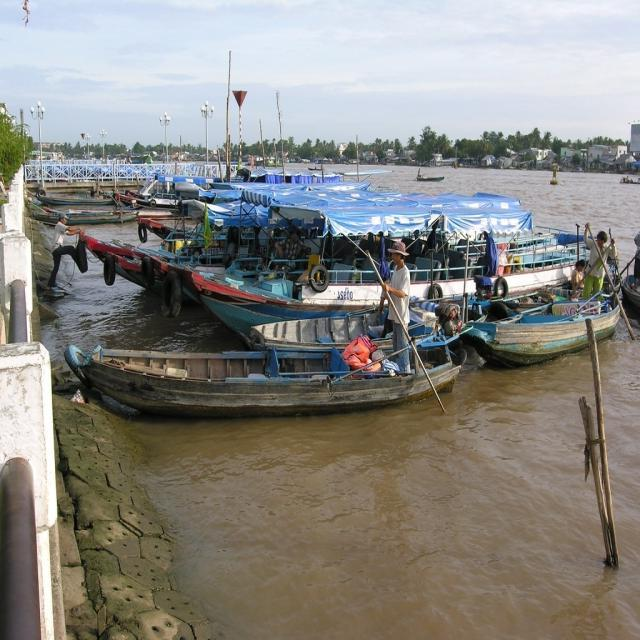boat: (70, 338, 468, 419), (476, 279, 630, 359), (406, 168, 449, 188), (618, 167, 640, 188)
